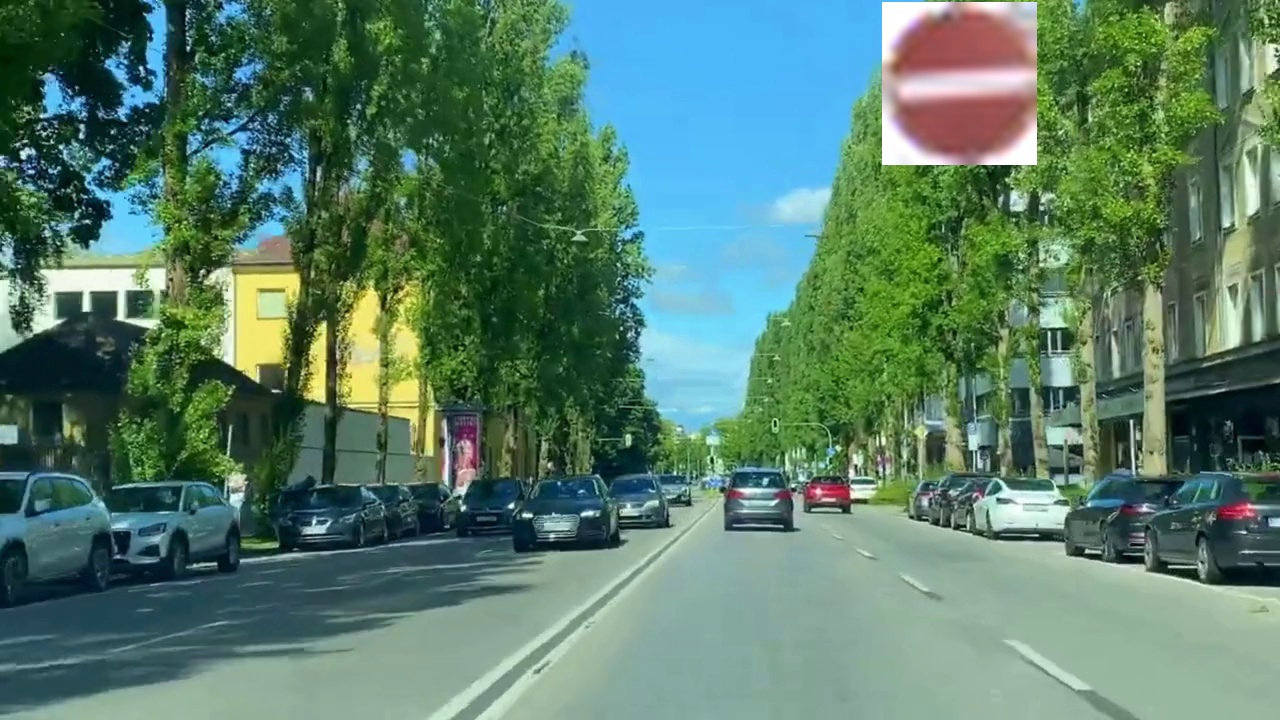No entry: (882, 2, 1037, 165)
